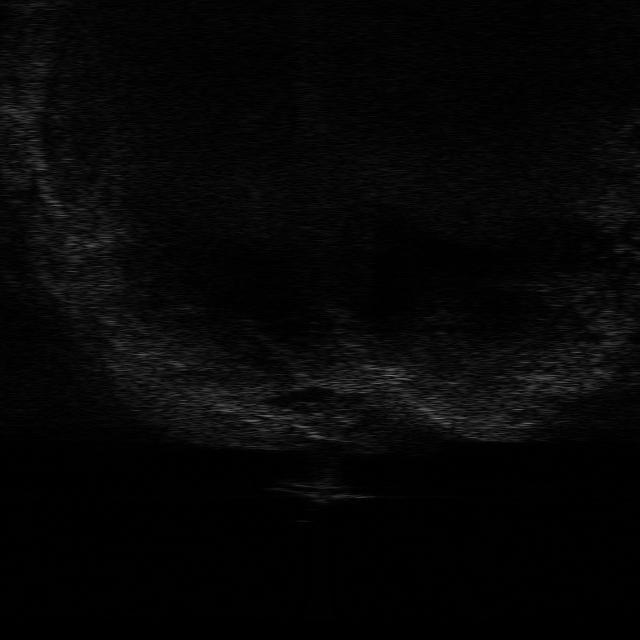plane: (266, 478, 375, 508)
